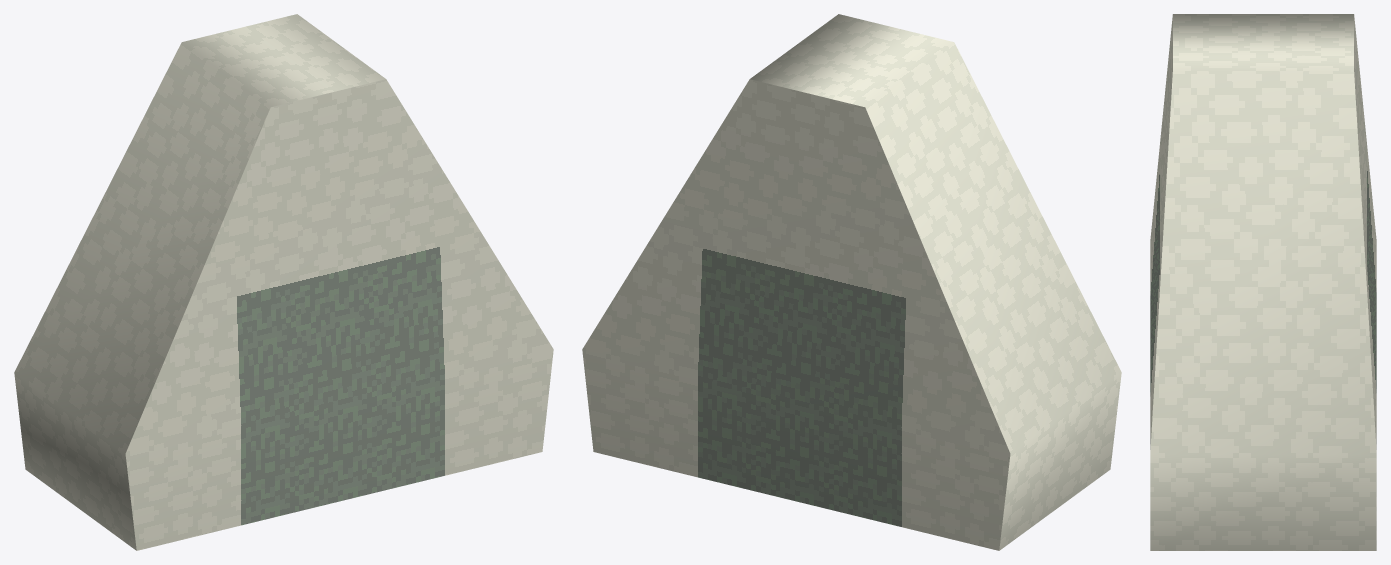
The model's file is 03db_Onigiri_Rice_Ball.glb.
The picture shows the model from 3 angles, left to right: view 1: azimuth 30°, elevation 25°; view 2: azimuth 150°, elevation 25°; view 3: azimuth 270°, elevation 25°; orthographic projection.
Visible parts, largest first — view 1: part_0; view 2: part_0; view 3: part_0.
Part boxes in pixels (x1=…): part_0: x1=14, y1=14, x2=553, y2=550; part_0: x1=582, y1=14, x2=1121, y2=550; part_0: x1=1150, y1=14, x2=1376, y2=550.
Size of the model in its own units: 0.1 by 0.0893 by 0.045.
Materials: 1 (1 with a texture image).
